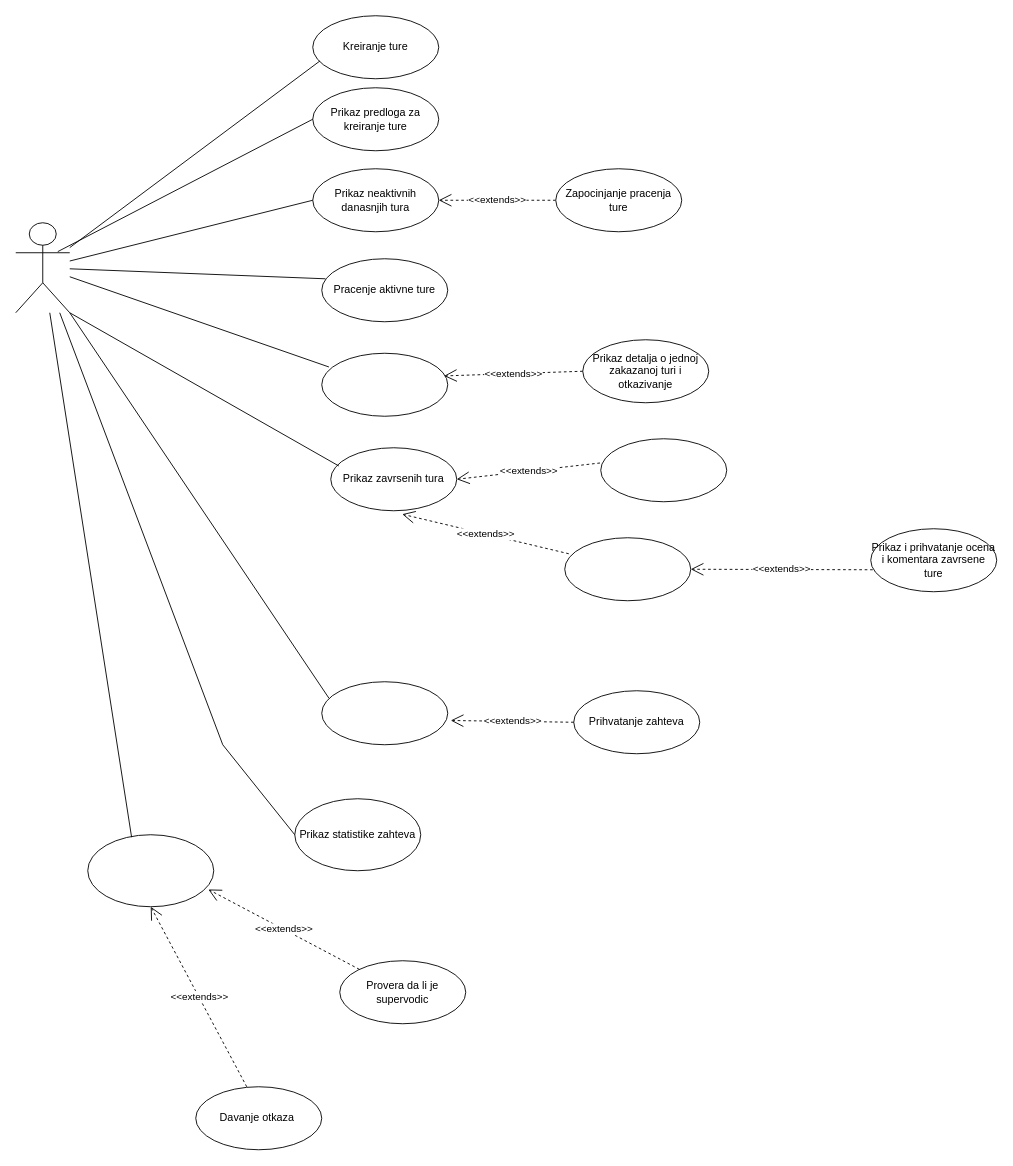
The diagram is 1013 pixels wide and 1166 high, and some of its shapes have lost their labels. Here are the shapes that lost their labels. From the top down, the centre of each, then its label:
At (x=42, y=267): "Vodic".
At (x=384, y=384): "Prikaz svih zakazanih tura".
At (x=663, y=470): "Prikaz detalja i statistike zavrsene ture".
At (x=627, y=569): "Prikaz detalja zavrsene ture ,ocena i komentara".
At (x=384, y=713): "Prikaz i pretraga zahteva".
At (x=150, y=870): "Prikaz profila vodica".
